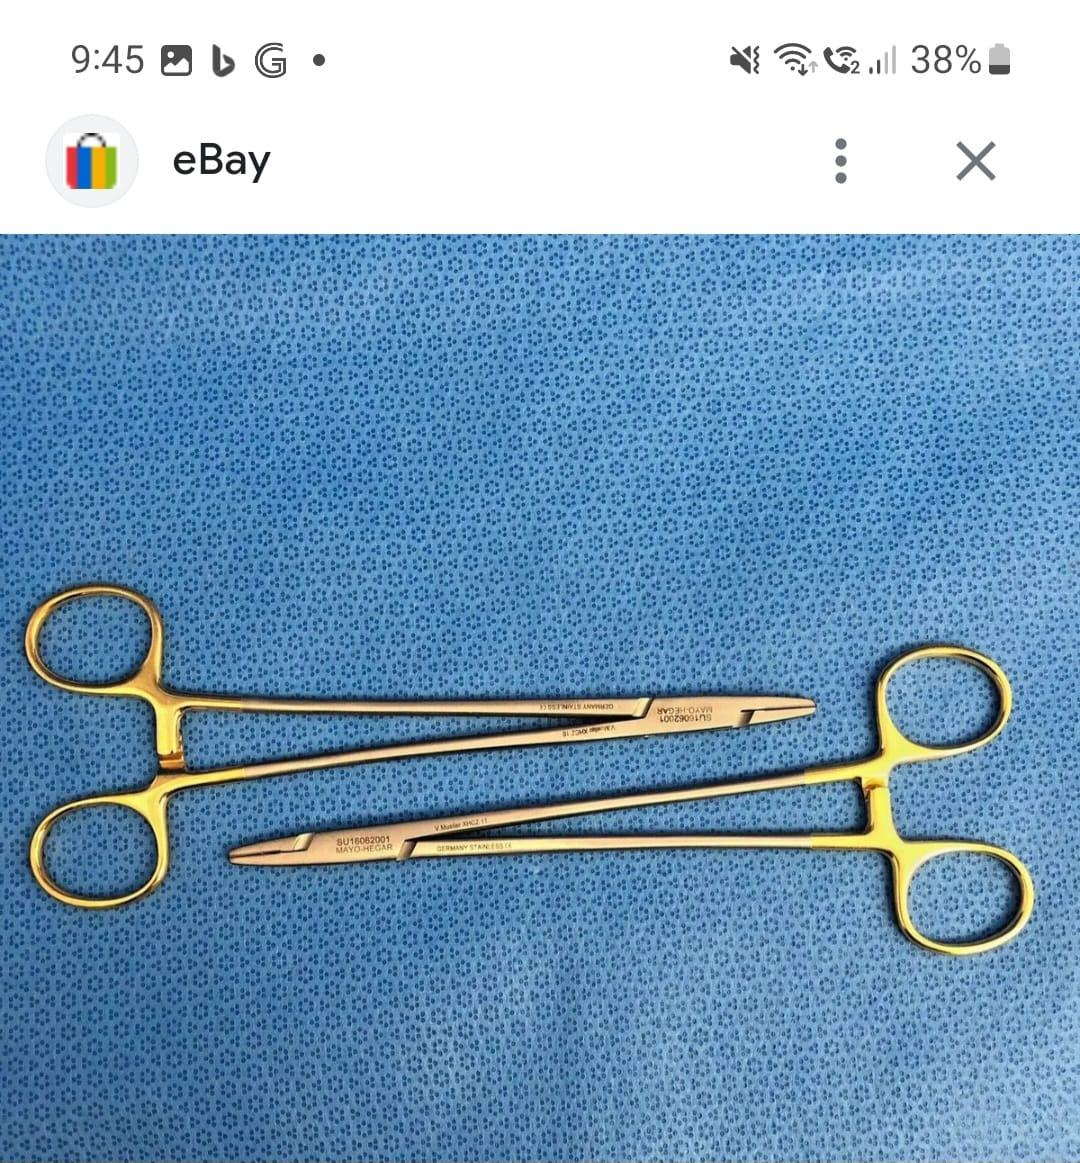Needle Holder: (10, 550, 815, 927), (221, 636, 1041, 1004)
